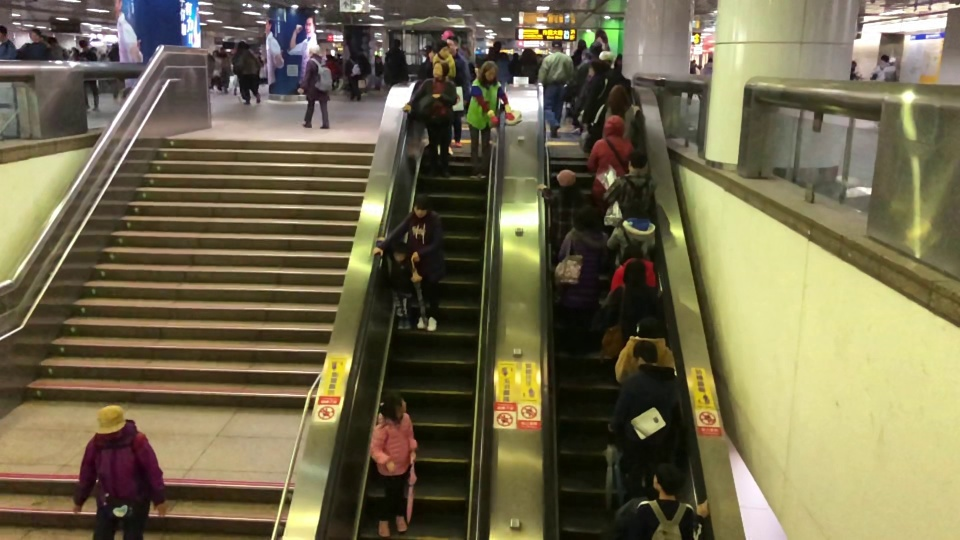person_head: (651, 459, 685, 502), (95, 403, 127, 441), (631, 337, 659, 369), (620, 258, 650, 287), (634, 314, 664, 343), (570, 203, 598, 234), (380, 391, 407, 419), (625, 148, 649, 179), (605, 83, 631, 111), (602, 113, 626, 139), (621, 241, 645, 265), (621, 198, 646, 221), (412, 192, 430, 218), (555, 167, 576, 189), (481, 59, 497, 83), (431, 59, 450, 79), (587, 57, 605, 77), (393, 241, 409, 263), (587, 42, 605, 60), (435, 39, 449, 59), (599, 50, 614, 67), (445, 36, 458, 54), (28, 28, 42, 42), (521, 47, 535, 61), (308, 43, 321, 58), (550, 39, 563, 53), (389, 38, 401, 49), (879, 53, 890, 65), (0, 26, 8, 42), (239, 45, 250, 55), (79, 39, 88, 51), (237, 38, 246, 49), (350, 48, 358, 58)
person_vbox: (69, 403, 171, 540), (605, 339, 680, 489), (372, 192, 442, 333), (556, 204, 609, 354), (611, 463, 710, 540), (369, 390, 415, 537), (402, 57, 455, 177), (464, 60, 515, 181), (601, 259, 663, 356), (581, 58, 632, 154), (602, 148, 658, 234), (535, 168, 587, 260), (612, 316, 675, 386), (587, 114, 634, 207), (604, 198, 657, 270), (566, 42, 606, 134), (376, 235, 413, 329), (590, 83, 641, 150), (539, 40, 574, 137), (430, 39, 456, 154), (604, 241, 657, 297), (297, 43, 331, 130), (445, 36, 469, 148), (77, 39, 101, 112), (234, 45, 261, 104), (381, 37, 409, 88), (15, 25, 50, 61), (343, 49, 363, 103), (228, 40, 246, 96), (513, 49, 540, 82), (871, 54, 897, 82), (0, 26, 17, 59)
